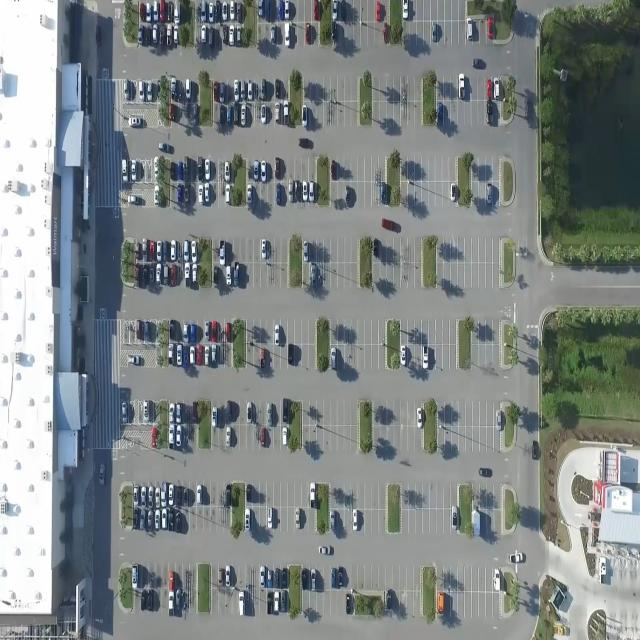car: (597, 556, 607, 584), (95, 25, 104, 49), (509, 552, 524, 565), (282, 100, 290, 124), (365, 179, 372, 205), (173, 0, 181, 22), (152, 156, 160, 178), (330, 346, 337, 371), (168, 592, 175, 617), (148, 261, 155, 285), (486, 100, 493, 124), (421, 346, 428, 370), (131, 564, 138, 588), (99, 462, 106, 486), (170, 239, 177, 262), (493, 569, 500, 592), (161, 481, 167, 507), (458, 72, 464, 98), (318, 544, 331, 556), (267, 508, 274, 530), (493, 78, 500, 100), (210, 320, 217, 342), (382, 218, 396, 229), (266, 401, 272, 426), (551, 626, 566, 636), (244, 507, 250, 532), (158, 142, 173, 152), (401, 0, 408, 21), (465, 20, 472, 41), (184, 182, 191, 203), (153, 184, 160, 205), (168, 402, 175, 423), (415, 408, 422, 429), (284, 22, 290, 46), (128, 115, 140, 127), (487, 78, 493, 102), (224, 159, 230, 183), (233, 262, 239, 286), (310, 264, 316, 288), (126, 354, 138, 366), (176, 511, 182, 535), (239, 591, 245, 615), (438, 593, 444, 617), (282, 398, 288, 422), (479, 467, 492, 478), (190, 241, 197, 261), (203, 346, 210, 366), (379, 183, 386, 203), (224, 566, 231, 586), (332, 0, 338, 23), (274, 590, 280, 613), (233, 78, 239, 101), (294, 179, 300, 202), (275, 182, 281, 205), (196, 156, 202, 179), (121, 157, 127, 180), (142, 398, 148, 421), (175, 424, 181, 447), (449, 184, 456, 203), (247, 79, 253, 101), (486, 183, 492, 205), (170, 77, 176, 99), (185, 78, 191, 100), (274, 103, 280, 125), (274, 157, 280, 179), (260, 160, 266, 182), (288, 179, 294, 201), (182, 239, 188, 261), (286, 343, 292, 365), (150, 426, 156, 448), (225, 426, 231, 448), (155, 487, 161, 509), (148, 485, 154, 507), (133, 508, 139, 530), (154, 509, 160, 531), (267, 592, 273, 614), (310, 569, 316, 591), (310, 482, 315, 508), (183, 155, 188, 181), (166, 24, 172, 45), (487, 20, 493, 41), (301, 181, 307, 202), (302, 106, 308, 127), (344, 186, 350, 207), (162, 263, 168, 284), (274, 324, 280, 345), (246, 402, 252, 423), (133, 485, 139, 506), (161, 508, 167, 529), (176, 589, 182, 610), (192, 104, 198, 125), (127, 193, 138, 204), (472, 57, 483, 68), (152, 24, 158, 44), (200, 0, 206, 20), (210, 344, 216, 364), (196, 484, 202, 504), (124, 78, 130, 98), (192, 80, 198, 100), (246, 184, 252, 204), (141, 264, 147, 284), (170, 262, 175, 286), (212, 265, 218, 285), (219, 240, 224, 264), (260, 238, 266, 258), (302, 241, 308, 261), (400, 346, 406, 366), (121, 402, 127, 422), (211, 406, 217, 426), (226, 400, 232, 420), (141, 486, 147, 506), (147, 510, 153, 530), (280, 590, 286, 610), (352, 510, 358, 530), (240, 79, 246, 99), (226, 484, 231, 507), (259, 429, 265, 448), (260, 105, 266, 124), (197, 184, 203, 203), (141, 237, 147, 256), (225, 323, 231, 342), (175, 486, 181, 505), (168, 572, 174, 591), (330, 568, 336, 587), (344, 595, 350, 614), (256, 0, 263, 16), (130, 158, 135, 180), (147, 80, 152, 102), (240, 105, 245, 127), (253, 158, 258, 180), (204, 158, 209, 180), (295, 507, 300, 529), (330, 510, 335, 532), (169, 484, 174, 506), (140, 508, 145, 530), (168, 508, 173, 530), (302, 568, 307, 590), (387, 588, 392, 610), (299, 138, 310, 148), (431, 24, 437, 42), (189, 346, 195, 364), (138, 80, 144, 98), (162, 241, 168, 259), (182, 324, 188, 342), (134, 320, 140, 338), (372, 239, 378, 257), (139, 0, 144, 21), (167, 0, 172, 21), (278, 0, 283, 21), (341, 0, 346, 21), (309, 181, 314, 202), (134, 265, 139, 286), (259, 347, 264, 368), (176, 344, 181, 365), (183, 346, 188, 367), (496, 410, 501, 431), (260, 566, 265, 587), (338, 565, 343, 586), (261, 78, 266, 99), (525, 100, 530, 121), (168, 102, 174, 119), (153, 0, 158, 20), (138, 24, 143, 44), (208, 25, 213, 45), (229, 25, 234, 45), (265, 0, 270, 20), (229, 0, 234, 20), (213, 80, 218, 100), (438, 102, 443, 122), (331, 161, 336, 181), (204, 182, 209, 202), (156, 240, 161, 260), (197, 344, 202, 364), (148, 590, 153, 610), (225, 184, 230, 204), (452, 506, 456, 530), (159, 26, 164, 45), (222, 0, 227, 19), (222, 26, 227, 45), (284, 0, 289, 19), (383, 25, 388, 44), (226, 103, 231, 122), (177, 160, 182, 179), (149, 239, 154, 258), (204, 321, 209, 340), (169, 320, 174, 339), (189, 323, 194, 342), (532, 440, 537, 459), (173, 25, 178, 43), (236, 26, 241, 44), (275, 79, 280, 97), (176, 183, 181, 201), (183, 488, 188, 506), (273, 569, 278, 587), (281, 569, 286, 587), (183, 264, 188, 282), (246, 484, 251, 502), (160, 0, 164, 22), (201, 25, 206, 42), (237, 1, 241, 22), (306, 22, 310, 43), (192, 401, 196, 422), (234, 102, 238, 123), (168, 342, 172, 363), (144, 320, 148, 341), (215, 0, 219, 20), (314, 0, 318, 20), (220, 82, 224, 102), (134, 242, 139, 258), (156, 262, 160, 282), (146, 2, 150, 21), (209, 2, 213, 21), (376, 3, 380, 22), (170, 160, 174, 178), (192, 264, 196, 282), (226, 266, 230, 284), (282, 427, 286, 445), (146, 25, 150, 42), (271, 24, 275, 41), (332, 22, 336, 39), (218, 569, 222, 586), (268, 571, 272, 588), (220, 105, 223, 124)
free_space: (190, 425, 199, 448), (372, 102, 380, 127), (414, 101, 422, 126), (485, 592, 493, 617), (188, 481, 196, 506), (478, 22, 486, 46), (316, 102, 324, 126), (336, 102, 344, 126), (280, 158, 288, 182), (400, 181, 408, 205), (492, 182, 500, 206), (302, 262, 310, 286), (436, 263, 444, 287), (478, 262, 486, 286), (406, 426, 414, 450), (399, 321, 407, 345), (414, 344, 422, 368), (188, 567, 196, 591), (450, 592, 458, 616), (485, 569, 493, 593), (464, 592, 472, 616), (478, 487, 486, 511), (478, 510, 486, 534), (492, 510, 500, 534), (304, 0, 312, 23), (280, 182, 288, 205), (414, 159, 422, 182), (434, 181, 442, 204), (478, 182, 486, 205), (414, 264, 422, 287), (414, 239, 422, 262), (350, 427, 358, 450), (406, 404, 414, 427), (442, 345, 450, 368), (478, 323, 486, 346), (272, 507, 280, 530), (356, 486, 364, 509), (210, 563, 218, 586), (370, 568, 378, 591), (412, 568, 420, 591), (478, 593, 486, 616), (133, 588, 141, 611), (422, 486, 430, 509), (256, 23, 264, 46), (393, 102, 400, 128), (189, 589, 196, 615), (346, 0, 354, 22), (416, 0, 424, 22), (444, 22, 452, 44), (442, 80, 450, 102), (470, 80, 478, 102), (491, 102, 499, 124), (434, 160, 442, 182), (210, 426, 218, 448), (414, 322, 422, 344), (428, 322, 436, 344), (442, 322, 450, 344), (286, 485, 294, 507), (230, 566, 238, 588), (415, 509, 423, 531), (280, 264, 288, 286), (436, 403, 443, 428), (450, 403, 457, 428), (478, 403, 485, 428), (486, 344, 493, 369), (329, 484, 336, 509), (153, 563, 160, 588), (322, 590, 329, 615), (412, 592, 419, 617), (170, 182, 177, 207), (168, 423, 175, 448), (146, 563, 153, 588), (239, 564, 246, 589), (429, 509, 436, 534), (281, 78, 288, 102), (470, 102, 477, 126), (477, 102, 484, 126), (428, 159, 435, 183), (428, 181, 435, 205), (442, 182, 449, 206), (240, 263, 247, 287), (253, 263, 260, 287), (273, 263, 280, 287), (344, 240, 351, 264), (451, 264, 458, 288), (465, 262, 472, 286), (472, 262, 479, 286), (322, 402, 329, 426), (322, 426, 329, 450), (329, 426, 336, 450), (350, 402, 357, 426), (343, 426, 350, 450), (436, 427, 443, 451), (443, 404, 450, 428), (450, 427, 457, 451), (457, 427, 464, 451), (471, 404, 478, 428), (471, 428, 478, 452), (478, 428, 485, 452), (300, 344, 307, 368), (329, 321, 336, 345), (357, 345, 364, 369), (371, 345, 378, 369), (472, 345, 479, 369), (493, 344, 500, 368), (252, 506, 259, 530), (286, 507, 293, 531), (343, 486, 350, 510), (349, 484, 356, 508), (160, 588, 167, 612), (301, 590, 308, 614), (364, 567, 371, 591), (436, 568, 443, 592), (457, 568, 464, 592), (444, 592, 451, 616), (465, 568, 472, 592), (247, 102, 254, 126), (202, 506, 209, 530), (401, 485, 408, 509), (408, 485, 415, 509), (485, 486, 492, 510), (451, 22, 458, 46), (458, 22, 465, 46), (378, 345, 385, 369), (401, 510, 408, 534), (408, 509, 415, 533), (246, 564, 253, 588), (310, 101, 316, 128), (194, 23, 201, 46), (291, 0, 298, 23), (291, 22, 298, 45), (298, 22, 305, 45), (367, 0, 374, 23), (374, 23, 381, 46), (424, 23, 431, 46), (303, 78, 310, 101), (449, 102, 456, 125), (253, 182, 260, 205), (329, 182, 336, 205), (357, 160, 364, 183), (421, 159, 428, 182), (246, 263, 253, 286), (323, 240, 330, 263), (337, 263, 344, 286), (344, 263, 351, 286), (351, 263, 358, 286), (380, 263, 387, 286), (444, 263, 451, 286), (451, 240, 458, 263), (465, 240, 472, 263), (238, 402, 245, 425), (238, 425, 245, 448), (245, 426, 252, 449), (315, 426, 322, 449), (336, 426, 343, 449), (372, 403, 379, 426), (372, 427, 379, 450), (379, 403, 386, 426), (379, 426, 386, 449), (386, 426, 393, 449), (393, 426, 400, 449), (400, 426, 407, 449), (414, 426, 421, 449), (443, 427, 450, 450), (464, 428, 471, 451), (485, 404, 492, 427), (266, 321, 273, 344), (266, 344, 273, 367), (280, 321, 287, 344), (307, 322, 314, 345), (336, 322, 343, 345), (357, 322, 364, 345), (364, 322, 371, 345), (209, 506, 216, 529), (216, 483, 223, 506), (279, 484, 286, 507), (336, 486, 343, 509), (378, 487, 385, 510), (364, 510, 371, 533), (210, 588, 217, 611), (308, 590, 315, 613), (315, 590, 322, 613), (493, 593, 500, 616), (213, 102, 220, 125), (422, 509, 429, 532), (436, 510, 443, 533), (342, 510, 350, 530), (194, 0, 201, 22), (298, 0, 305, 22), (311, 22, 318, 44), (360, 23, 367, 45), (381, 0, 388, 22), (430, 0, 437, 22), (444, 0, 451, 22), (437, 0, 444, 22), (323, 79, 330, 101), (393, 80, 400, 102), (379, 102, 386, 124), (386, 102, 393, 124), (436, 80, 443, 102), (470, 102, 477, 124), (246, 159, 253, 181), (287, 160, 294, 182), (301, 159, 308, 181), (308, 159, 315, 181), (344, 160, 351, 182), (350, 160, 357, 182), (400, 160, 407, 182), (414, 181, 421, 203), (442, 159, 449, 181), (449, 160, 456, 182), (492, 160, 499, 182), (485, 160, 492, 182), (471, 160, 478, 182), (239, 240, 246, 262), (253, 240, 260, 262), (323, 263, 330, 285), (351, 242, 358, 264), (380, 242, 387, 264), (387, 241, 394, 263), (444, 240, 451, 262), (472, 240, 479, 262), (479, 241, 486, 263), (259, 402, 266, 424), (329, 404, 336, 426), (343, 404, 350, 426), (386, 404, 393, 426), (457, 405, 464, 427), (464, 406, 471, 428), (485, 428, 492, 450), (492, 428, 499, 450), (246, 344, 253, 366), (364, 345, 371, 367), (378, 322, 385, 344), (188, 506, 195, 528), (209, 483, 216, 505), (272, 485, 279, 507), (357, 510, 364, 532), (371, 509, 378, 531), (153, 588, 160, 610), (181, 568, 188, 590), (349, 568, 356, 590), (398, 568, 405, 590), (391, 592, 398, 614), (398, 592, 405, 614), (212, 160, 219, 182), (141, 589, 148, 611), (471, 488, 478, 510), (492, 488, 499, 510), (212, 240, 219, 262), (354, 22, 360, 47), (337, 182, 343, 207), (351, 182, 357, 207), (302, 425, 308, 450), (231, 588, 237, 613), (472, 592, 478, 617), (156, 343, 162, 368), (277, 23, 284, 44), (423, 0, 430, 21), (437, 23, 444, 44), (450, 0, 457, 21), (477, 80, 484, 101), (478, 161, 485, 182), (493, 242, 500, 263), (176, 321, 183, 342), (300, 486, 307, 507), (378, 510, 385, 531), (336, 509, 343, 530), (271, 0, 277, 24), (347, 22, 353, 46), (417, 22, 423, 46), (472, 22, 478, 46), (324, 102, 330, 126), (351, 102, 357, 126), (407, 102, 413, 126), (464, 102, 470, 126), (218, 182, 224, 206), (260, 262, 266, 286), (266, 262, 272, 286), (317, 240, 323, 264), (373, 263, 379, 287), (493, 262, 499, 286), (218, 424, 224, 448), (232, 424, 238, 448), (266, 426, 272, 450), (302, 402, 308, 426), (309, 402, 315, 426), (309, 426, 315, 450), (225, 343, 231, 367), (253, 343, 259, 367), (337, 344, 343, 368), (344, 321, 350, 345), (351, 321, 357, 345), (371, 321, 377, 345), (408, 344, 414, 368), (436, 322, 442, 346), (450, 345, 456, 369), (436, 344, 442, 368), (486, 322, 492, 346), (216, 506, 222, 530), (140, 564, 146, 588), (259, 589, 265, 613), (392, 567, 398, 591), (406, 567, 412, 591), (406, 592, 412, 616), (451, 568, 457, 592), (472, 568, 478, 592), (479, 568, 485, 592), (337, 158, 343, 182), (136, 400, 142, 424), (254, 79, 261, 99), (330, 80, 337, 100), (294, 160, 301, 180), (394, 242, 401, 262), (223, 506, 230, 526), (340, 22, 346, 45), (360, 0, 366, 23), (403, 22, 409, 45), (310, 78, 316, 101), (344, 102, 350, 125), (457, 103, 463, 126), (211, 182, 217, 205), (260, 183, 266, 206), (267, 182, 273, 205), (358, 182, 364, 205), (422, 181, 428, 204), (226, 239, 232, 262), (246, 239, 252, 262), (267, 239, 273, 262), (310, 240, 316, 263), (331, 240, 337, 263), (387, 263, 393, 286), (458, 263, 464, 286), (218, 402, 224, 425), (232, 402, 238, 425), (316, 402, 322, 425), (253, 321, 259, 344), (260, 321, 266, 344), (294, 321, 300, 344), (294, 344, 300, 367), (301, 321, 307, 344), (308, 344, 314, 367), (351, 345, 357, 368), (429, 345, 435, 368), (472, 322, 478, 345), (480, 345, 486, 368), (252, 483, 258, 506), (294, 485, 300, 508), (259, 507, 265, 530), (300, 507, 306, 530), (371, 487, 377, 510), (161, 565, 167, 588), (316, 566, 322, 589), (329, 590, 335, 613), (378, 569, 384, 592), (385, 568, 391, 591), (458, 592, 464, 615), (176, 401, 182, 424), (437, 487, 443, 510), (443, 102, 449, 125), (215, 24, 221, 46), (360, 0, 366, 22), (410, 22, 416, 44), (458, 0, 464, 22), (178, 102, 184, 124), (185, 102, 191, 124), (268, 80, 274, 102), (268, 102, 274, 124), (317, 80, 323, 102), (344, 80, 350, 102), (351, 80, 357, 102), (380, 80, 386, 102), (387, 80, 393, 102), (373, 80, 379, 102), (414, 79, 420, 101), (450, 80, 456, 102), (464, 80, 470, 102), (267, 160, 273, 182), (364, 160, 370, 182), (408, 160, 414, 182), (408, 182, 414, 204), (472, 183, 478, 205), (233, 239, 239, 261), (274, 241, 280, 263), (280, 241, 286, 263), (317, 263, 323, 285), (331, 264, 337, 286), (338, 240, 344, 262), (394, 264, 400, 286), (437, 241, 443, 263), (486, 263, 492, 285), (486, 241, 492, 263), (128, 400, 134, 422), (273, 403, 279, 425), (273, 426, 279, 448), (336, 404, 342, 426), (393, 404, 399, 426), (400, 404, 406, 426), (197, 320, 203, 342), (246, 321, 252, 343), (273, 344, 279, 366), (280, 344, 286, 366), (287, 321, 293, 343), (344, 346, 350, 368), (408, 322, 414, 344), (422, 322, 428, 344), (182, 507, 188, 529), (196, 506, 202, 528), (259, 483, 265, 505), (266, 484, 272, 506), (280, 507, 286, 529), (307, 508, 313, 530), (364, 487, 370, 509), (175, 567, 181, 589), (218, 588, 224, 610), (224, 588, 230, 610), (252, 589, 258, 611), (322, 568, 328, 590), (336, 591, 342, 613), (343, 568, 349, 590), (357, 568, 363, 590), (226, 80, 232, 102), (191, 182, 197, 204), (416, 486, 422, 508), (430, 486, 436, 508), (444, 510, 450, 532), (486, 510, 492, 532), (264, 23, 270, 44), (353, 0, 359, 21), (368, 22, 374, 43), (409, 0, 415, 21), (179, 80, 185, 101), (407, 81, 413, 102), (191, 160, 197, 181), (219, 263, 225, 284), (458, 241, 464, 262), (450, 322, 456, 343), (493, 323, 499, 344), (202, 485, 208, 506), (443, 487, 449, 508), (331, 102, 336, 126), (337, 81, 343, 101), (444, 568, 449, 592), (145, 160, 151, 180), (254, 566, 259, 589), (131, 78, 136, 99), (153, 401, 158, 422), (451, 487, 456, 508), (140, 161, 145, 180)
